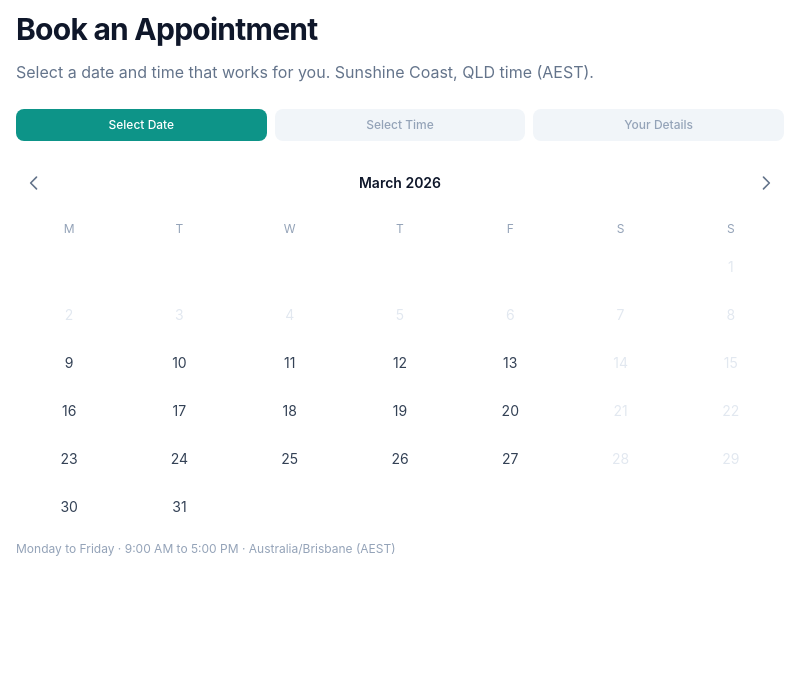
it: Book Page › shows error message when API returns error on submit
This screenshot has width=801, height=698.
Click the button "9": (69, 363) [16,341,122,385]
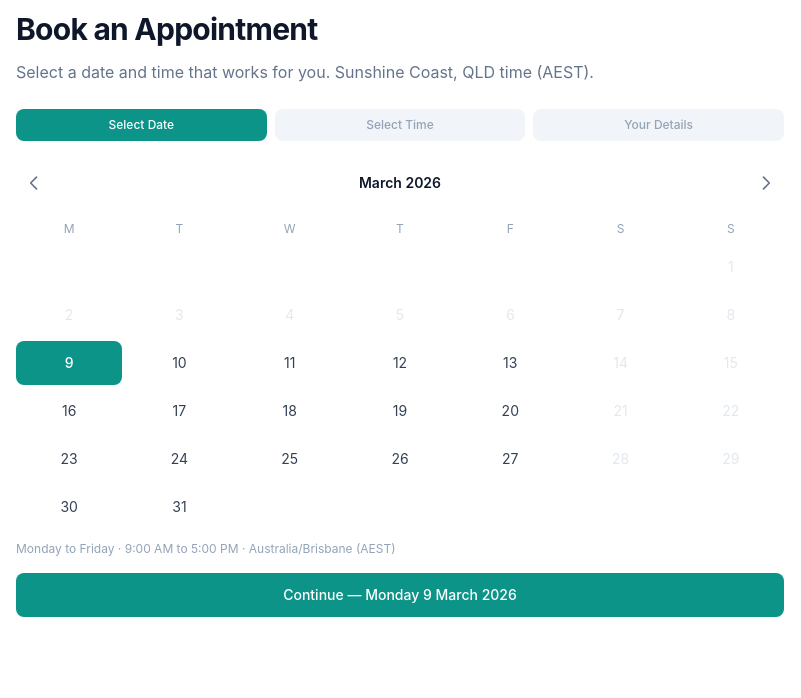
Click the button "Continue — Monday 9 March 2026": (400, 595) [16,573,784,617]
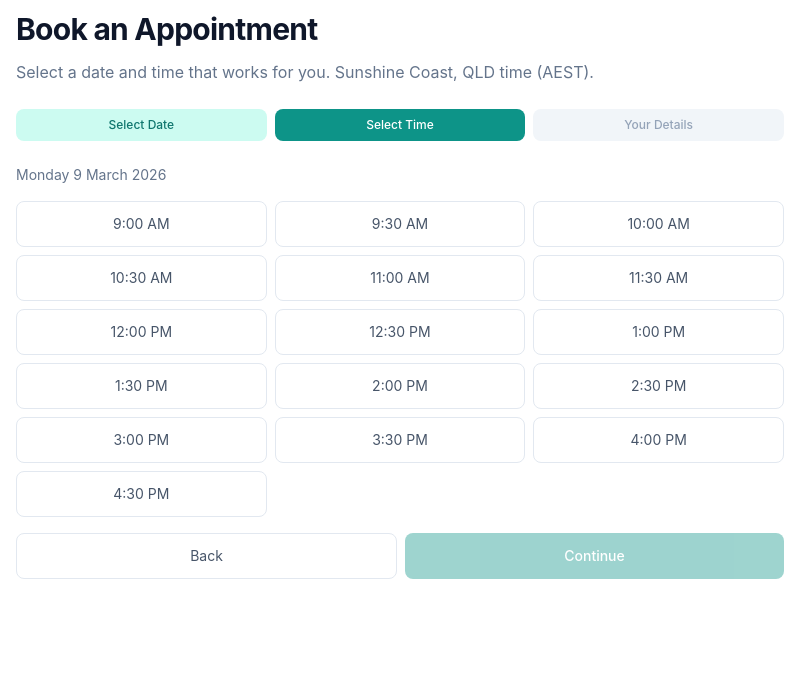
Click the button "9:00 AM": (141, 224) [16,201,267,247]
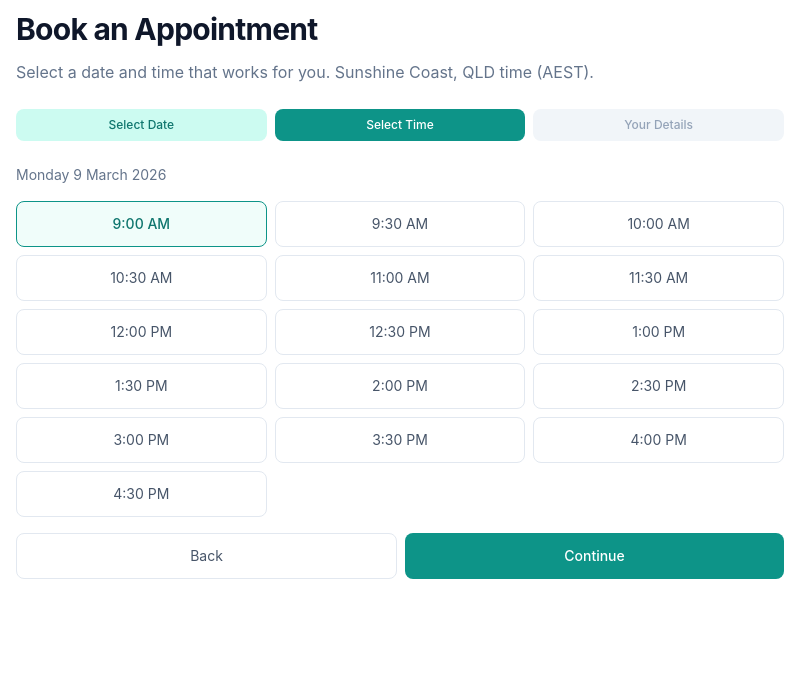
Click the button "Continue": (594, 556) [405,533,784,579]
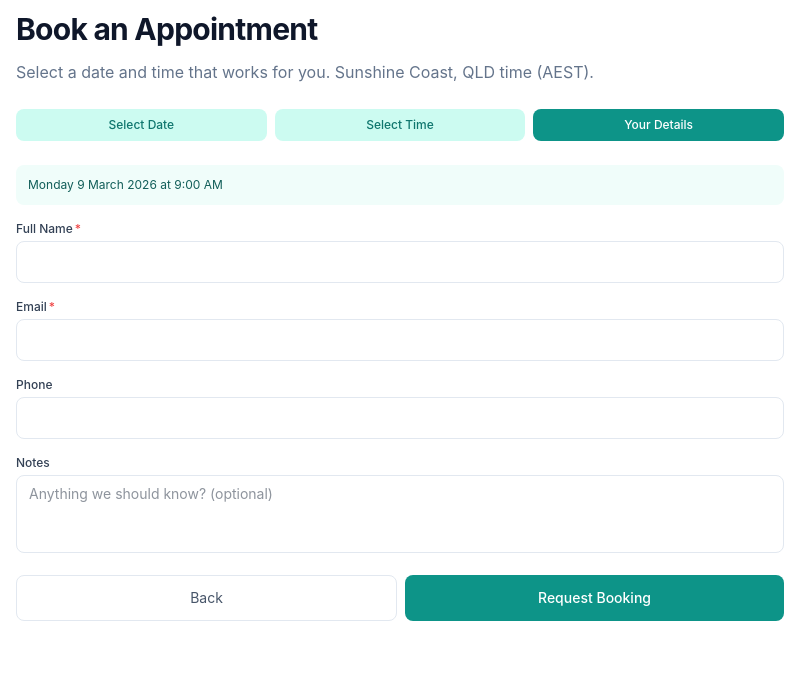
Fill form
In the field labelled "Full Name*": (400, 262) [16,241,784,283], type "Test"
In the field labelled "Email*": (400, 340) [16,319,784,361], type "t@t.com"
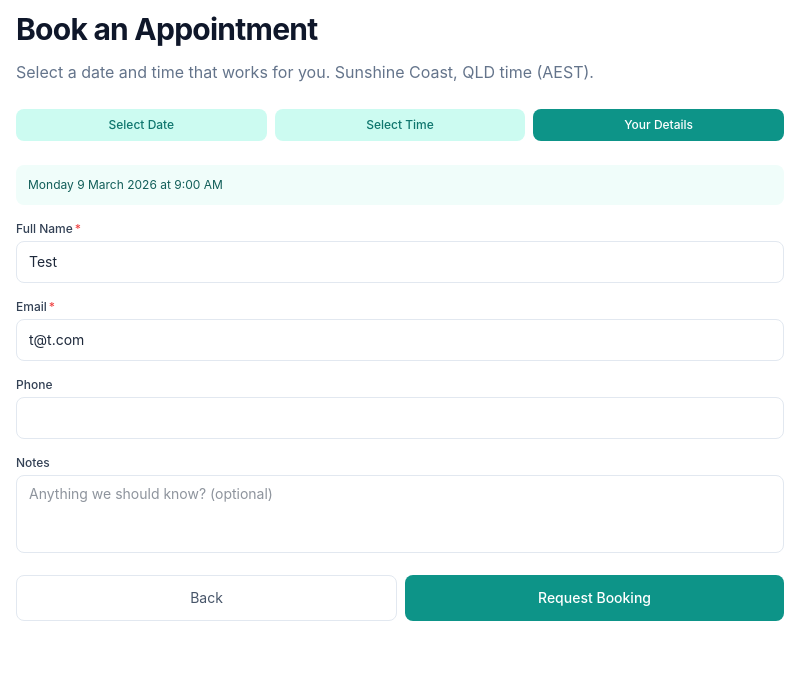
Submit the text "Request Booking"
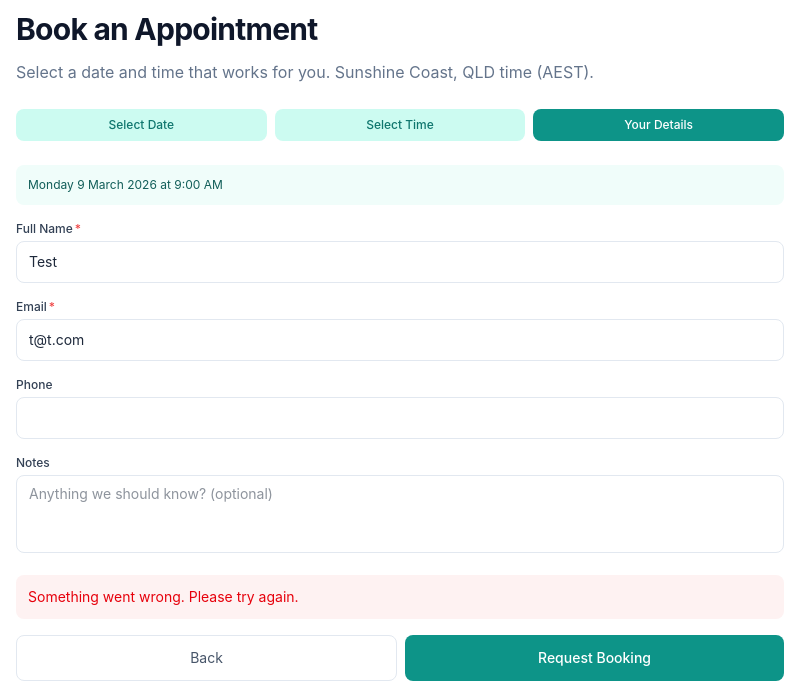
expect the message "Something went wrong. Please try again." is shown: met, box [16,575,784,619]
